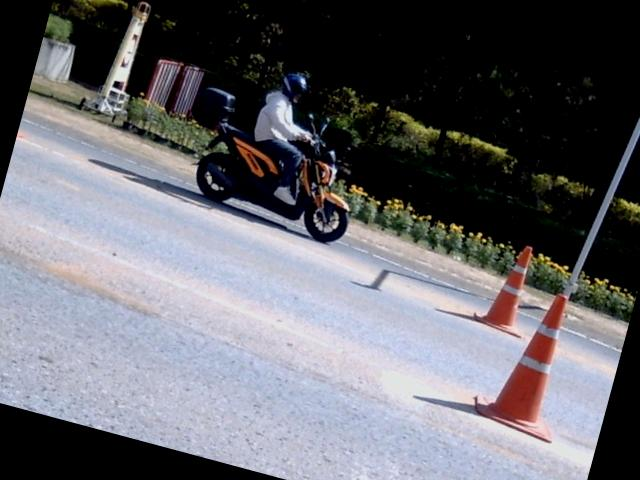helmet: (283, 72, 307, 101)
motor: (196, 87, 349, 241)
person: (254, 73, 311, 204)
